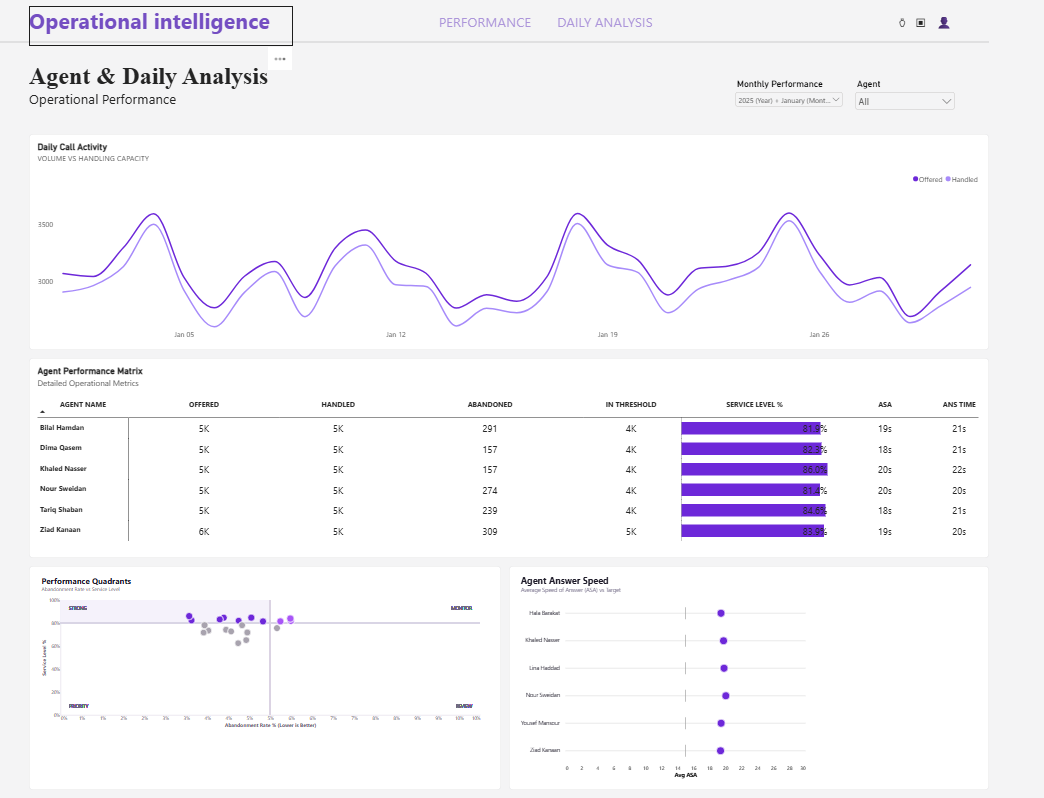

What the dashboard file says about the page in this screenshot:
{"tool":"powerbi","page":{"name":"DAILY ANALYSIS","canvas":[2100,1600],"ordinal":1},"visuals":[{"type":"shape","box":[0,80,1984,16],"z":0},{"type":"textbox","box":[64,16,528,80],"z":1000},{"type":"textbox","box":[1712,32,240,48],"z":2000},{"type":"actionButton","box":[816,16,320,64],"z":3000},{"type":"actionButton","box":[1056,16,320,64],"z":4000},{"type":"textbox","box":[64,128,528,150],"z":5000},{"type":"slicer","title":"Agent","fields":{"Values":["Call_Center_Data.agent_name"]},"box":[1712,160,208,80],"z":6000},{"type":"lineChart","title":"Daily Call Activity","fields":{"Category":["DateTable.Date"],"Y":["Call_Center_Data.Offered","Call_Center_Data.Handled"]},"box":[64,272,1920,432],"z":7000},{"type":"pivotTable","title":"Agent Performance Matrix","fields":{"Rows":["Call_Center_Data.agent_name"],"Values":["Call_Center_Data.Offered","Call_Center_Data.Handled","Call_Center_Data.Abandoned","Sum(Call_Center_Data.calls_handled_within_threshold)","Call_Center_Data.Service Level %","Call_Center_Data.Avg ASA Display","Call_Center_Data.Answer Time Display"]},"box":[64,720,1920,400],"z":8000},{"type":"deneb7E15AEF80B9E4D4F8E12924291ECE89A","fields":{"dataset":["Call_Center_Data.agent_name","Call_Center_Data.Abandonment Rate %","Call_Center_Data.Service Level %","Call_Center_Data.Offered","Call_Center_Data.Handled","Call_Center_Data.Abandoned","Call_Center_Data.Avg ASA"]},"box":[64,1136,944,448],"z":9000},{"type":"deneb7E15AEF80B9E4D4F8E12924291ECE89A","fields":{"dataset":["Call_Center_Data.agent_name","Call_Center_Data.Avg ASA","Call_Center_Data.Offered","Call_Center_Data.Handled","Call_Center_Data.Abandoned"]},"box":[1024,1136,960,448],"z":10000},{"type":"slicer","title":"Agent","fields":{"Values":["DateTable.Year Hierarchy.Year","DateTable.Year Hierarchy.Month Name"]},"box":[1472,160,224,80],"z":11000}]}

Visuals, with their boxes in screenshot pixels (x1, y1, x2, y2), scaled from the page's 2100x1600 canvas onto the 1044x798 screenshot:
shape: region(0, 40, 986, 48)
textbox: region(32, 8, 294, 48)
textbox: region(851, 16, 970, 40)
actionButton: region(406, 8, 565, 40)
actionButton: region(525, 8, 684, 40)
textbox: region(32, 64, 294, 139)
"Agent" slicer: region(851, 80, 955, 120)
"Daily Call Activity" lineChart: region(32, 136, 986, 351)
"Agent Performance Matrix" pivotTable: region(32, 359, 986, 559)
deneb7E15AEF80B9E4D4F8E12924291ECE89A - Call_Center_Data.agent_name x Call_Center_Data.Abandonment Rate %: region(32, 567, 501, 790)
deneb7E15AEF80B9E4D4F8E12924291ECE89A - Call_Center_Data.agent_name x Call_Center_Data.Avg ASA: region(509, 567, 986, 790)
"Agent" slicer: region(732, 80, 843, 120)
